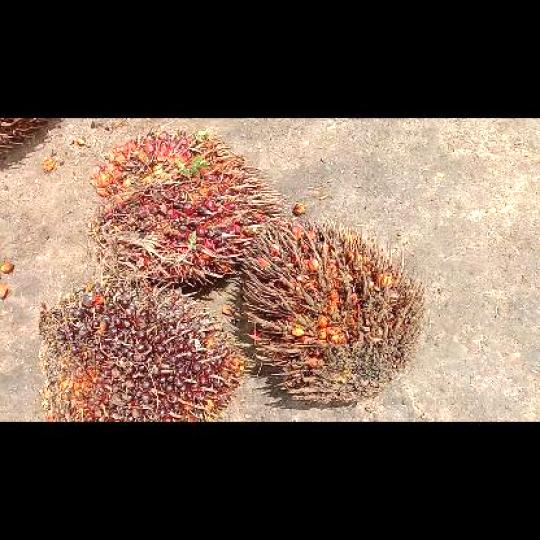kurang masak: (35, 284, 245, 420)
masak: (88, 128, 280, 290)
terlalu masak: (239, 221, 423, 397)
